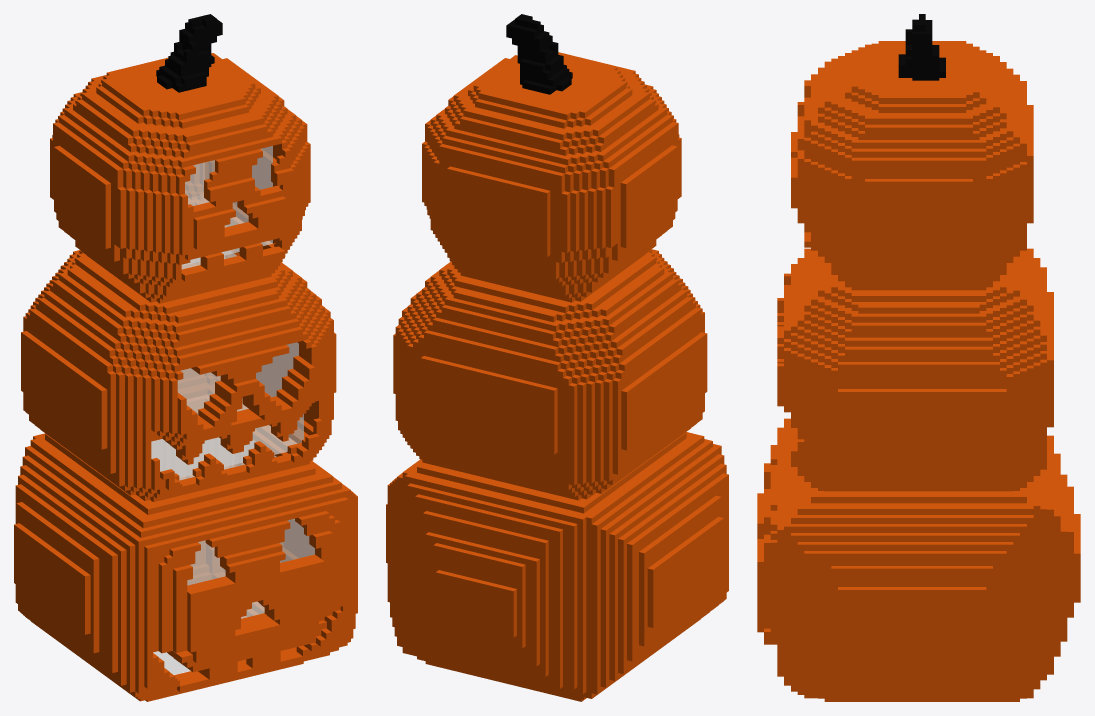
File: Pumpkin.fbx
3 renders of one model, left to right at view 1: azimuth 30°, elevation 25°; view 2: azimuth 150°, elevation 25°; view 3: azimuth 270°, elevation 25°, orthographic. The views are drawn at different scales.
Parts seen in each view (by area): view 1: ObjObject, 立方体.001, 立方体, 立方体.002; view 2: ObjObject; view 3: ObjObject.
Part boxes in pixels (x1,y1,x2,y2): ObjObject: (14, 14, 357, 701); 立方体.001: (151, 251, 303, 477); 立方体: (152, 438, 314, 674); 立方体.002: (181, 146, 272, 265); ObjObject: (386, 14, 728, 701); ObjObject: (757, 14, 1080, 701).
Bounding box in the file's own units: 480 × 1070 × 480.
